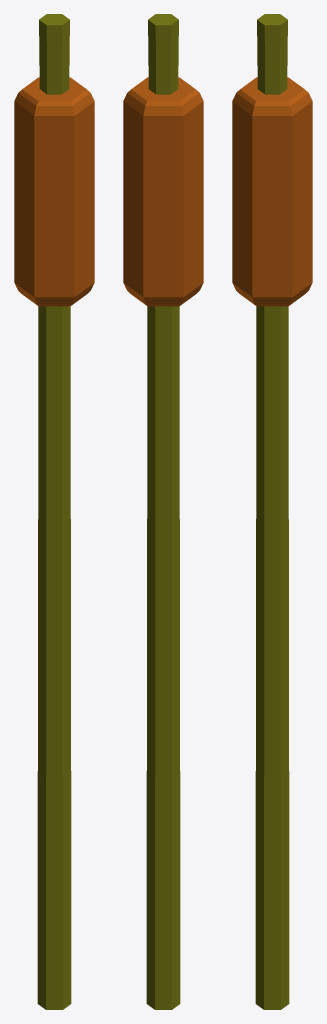
File: cattail.fbx
3 views of the same model, side by side, from view 1: azimuth 90°, elevation 25°; view 2: azimuth 210°, elevation 25°; view 3: azimuth 270°, elevation 25° (orthographic).
Parts seen in each view (by area): view 1: cattail; view 2: cattail; view 3: cattail.
Boxes of the visible parts, x1,y1,x2,y2 form: cattail: (14,14,94,1009); cattail: (123,14,203,1009); cattail: (232,14,312,1009).
Bounding box in the file's own units: 34.48 × 537 × 39.81.
